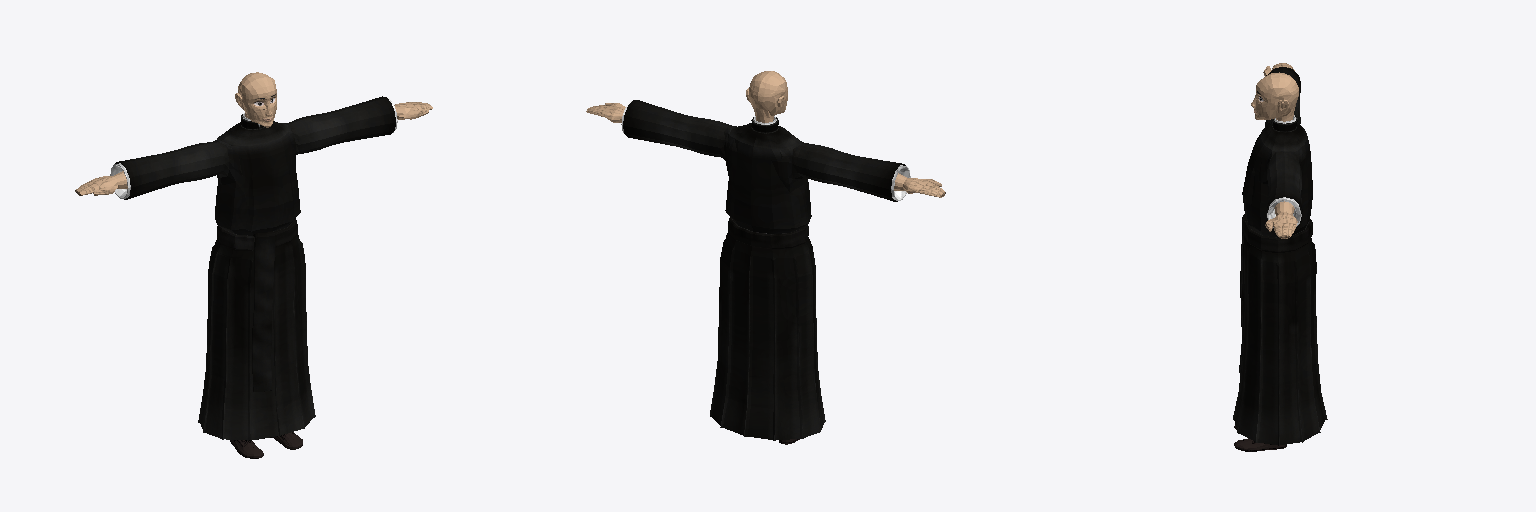
3 views of the same model, side by side, from view 1: azimuth 30°, elevation 25°; view 2: azimuth 150°, elevation 25°; view 3: azimuth 270°, elevation 25° (orthographic).
Visible parts, largest first — view 1: polySurface3; view 2: polySurface3; view 3: polySurface3.
Part boxes in pixels (x1,y1,x2,y2): polySurface3: (75,72,432,458); polySurface3: (586,71,945,444); polySurface3: (1233,63,1327,451).
Size of the model in its own units: 23.27 by 22.94 by 5.43.
1 materials, 1 textured.